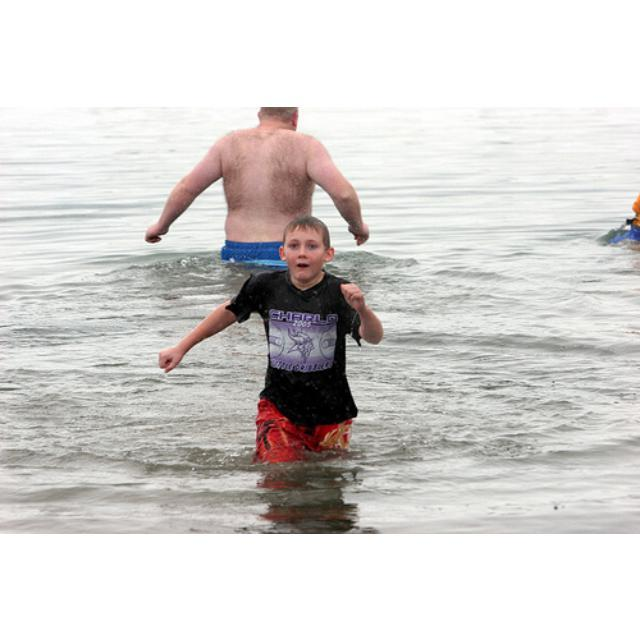human: (157, 216, 384, 466), (145, 109, 372, 269)
